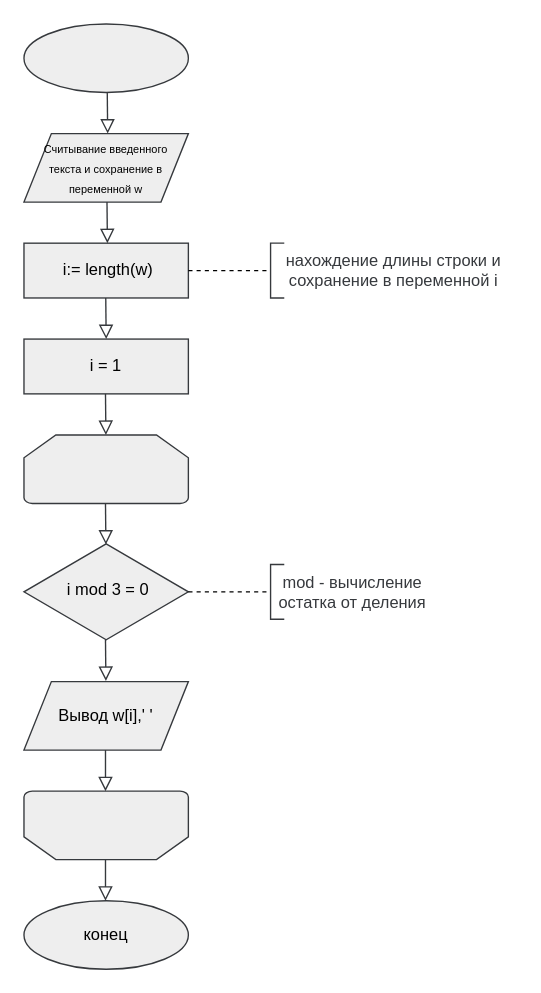
Image size: 541x993. Some labels were removed from this diagram. The shapes that lost their labels are listed below. From the top down, each one's centre as x and y in pixels, then its label:
At (105,57): "начало".
At (105,468): "Начало цикла 1 i > length(w)".
At (105,825): "Конец цикла 1".
